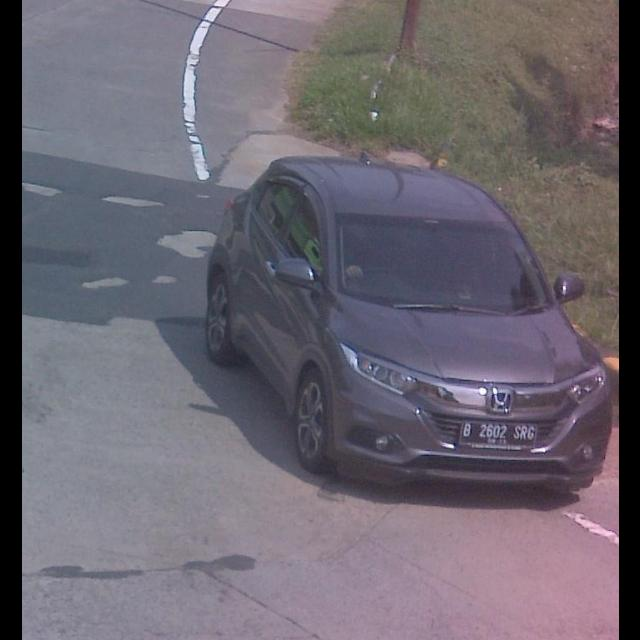plate: (457, 418, 537, 452)
